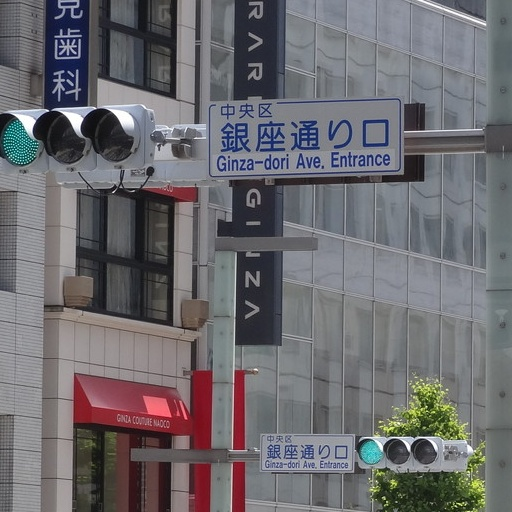Traffic_Signal_Blue: (4, 105, 153, 172), (353, 431, 474, 480)
